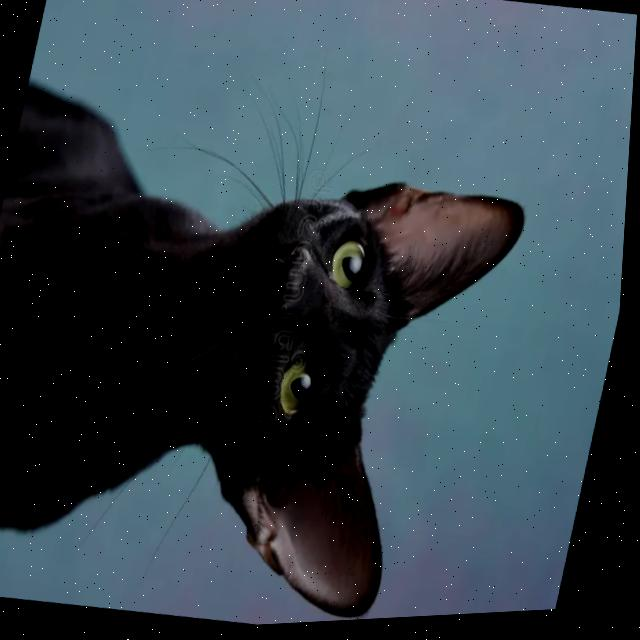Oriental: (0, 0, 572, 640)
